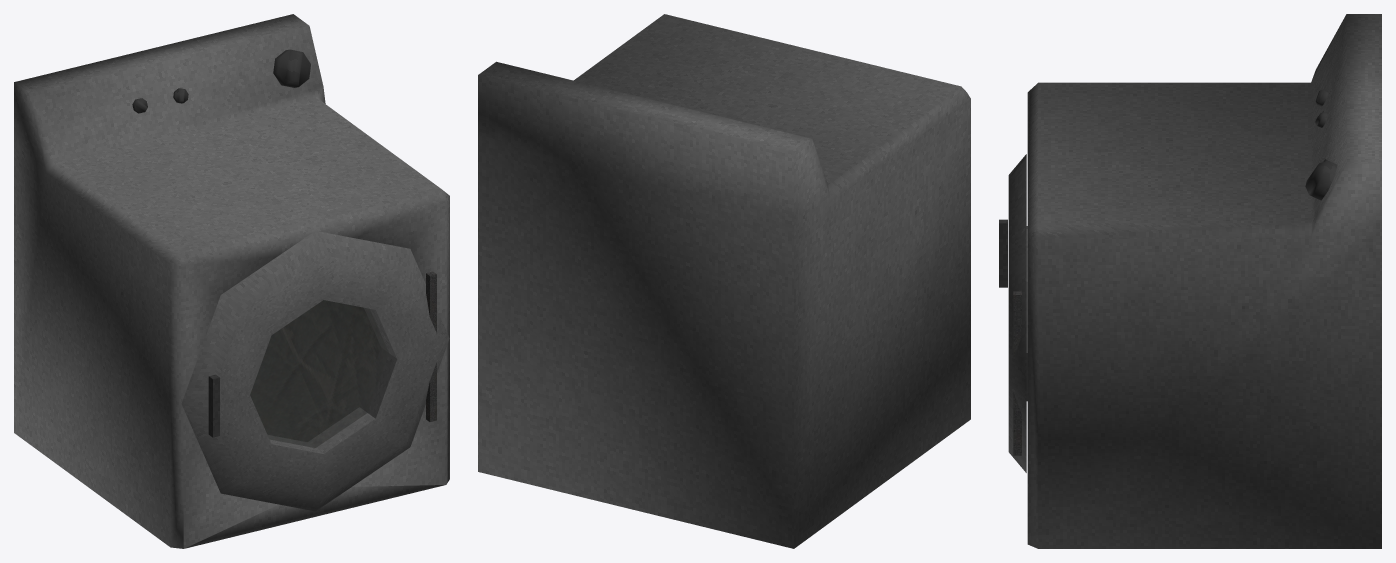
File: dryer.glb
The picture shows the model from 3 angles, left to right: view 1: azimuth 30°, elevation 25°; view 2: azimuth 150°, elevation 25°; view 3: azimuth 270°, elevation 25°; orthographic projection. The views are drawn at different scales.
Visible parts, largest first — view 1: Dryer, Door; view 2: Dryer; view 3: Dryer, Door.
Boxes of the visible parts, x1=… form: Dryer: x1=14, y1=14, x2=449, y2=548; Door: x1=181, y1=231, x2=449, y2=511; Dryer: x1=478, y1=14, x2=970, y2=548; Dryer: x1=1027, y1=14, x2=1381, y2=548; Door: x1=999, y1=154, x2=1027, y2=472.
Bounding box in the file's own units: 1 × 1.2 × 1.08.
4 materials, 4 textured.
